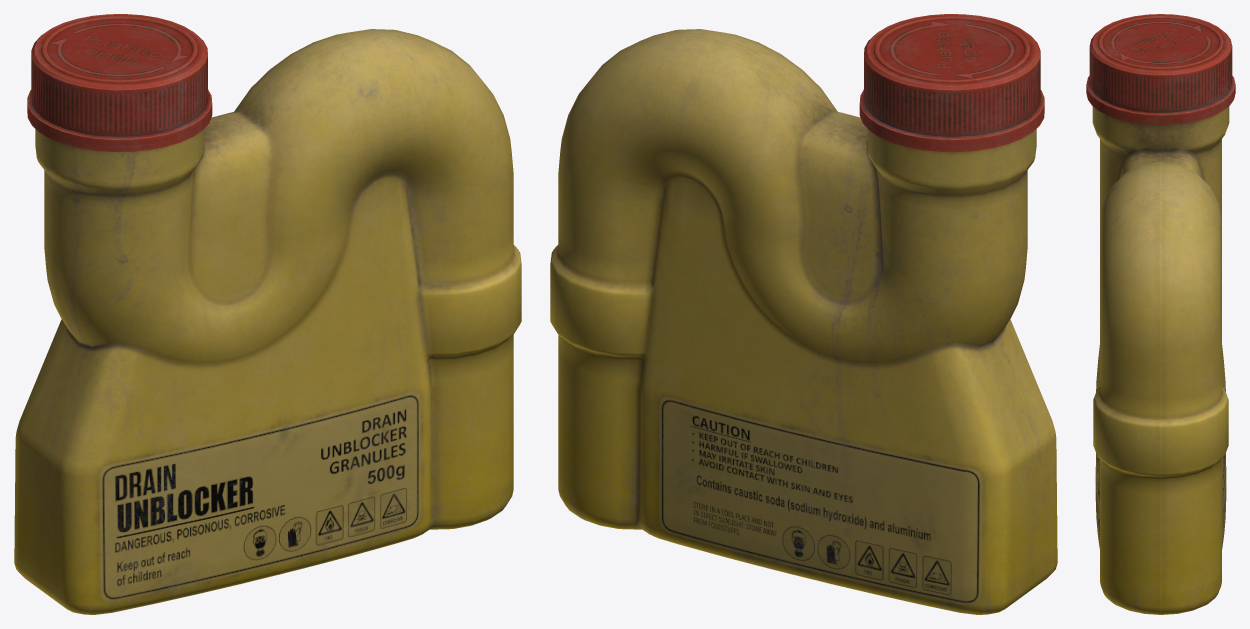
Rendered from drain_cleaner_2k.fbx.
3 renders of one model, left to right at view 1: azimuth 30°, elevation 25°; view 2: azimuth 150°, elevation 25°; view 3: azimuth 270°, elevation 25°, orthographic. The views are drawn at different scales.
Parts seen in each view (by area): view 1: drain_cleaner; view 2: drain_cleaner; view 3: drain_cleaner.
Part boxes in pixels (x1,y1,x2,y2): drain_cleaner: [14, 14, 521, 614]; drain_cleaner: [550, 14, 1057, 614]; drain_cleaner: [1086, 14, 1235, 614].
Size of the model in its own units: 16.54 by 17.86 by 5.63.
Materials: 1 (1 with a texture image).
